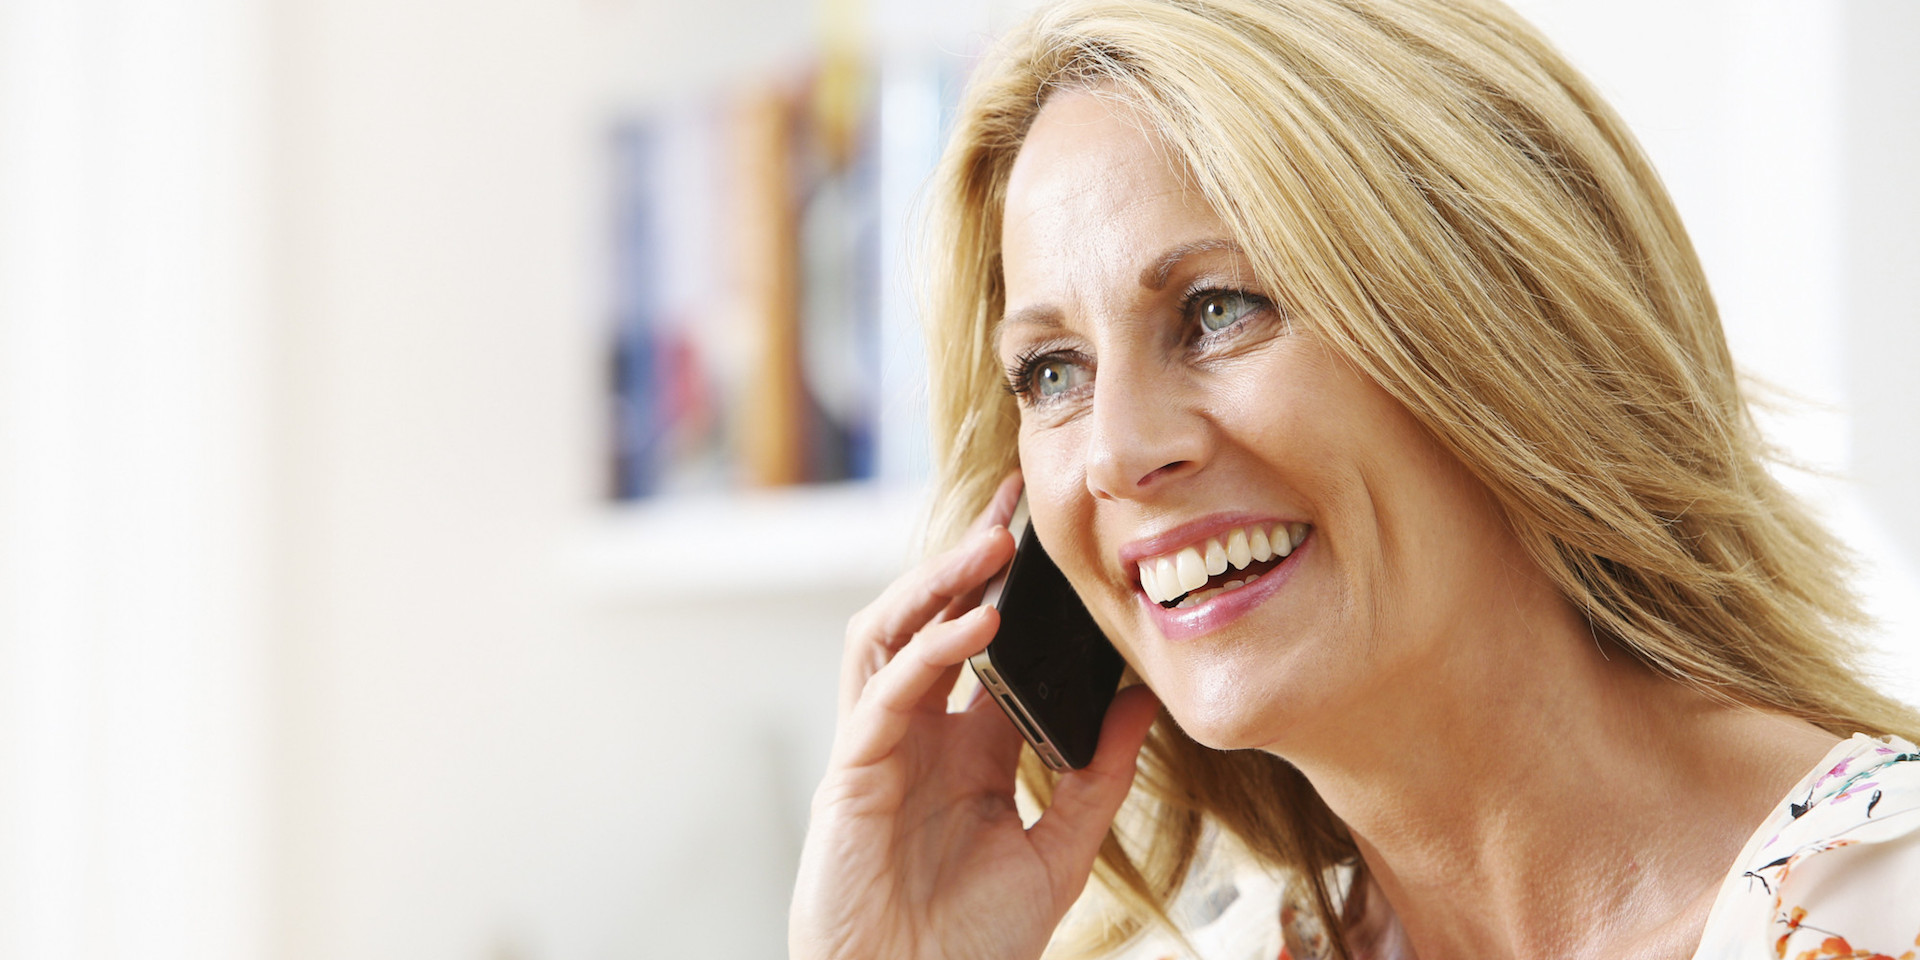smartphone: (967, 479, 1128, 774)
